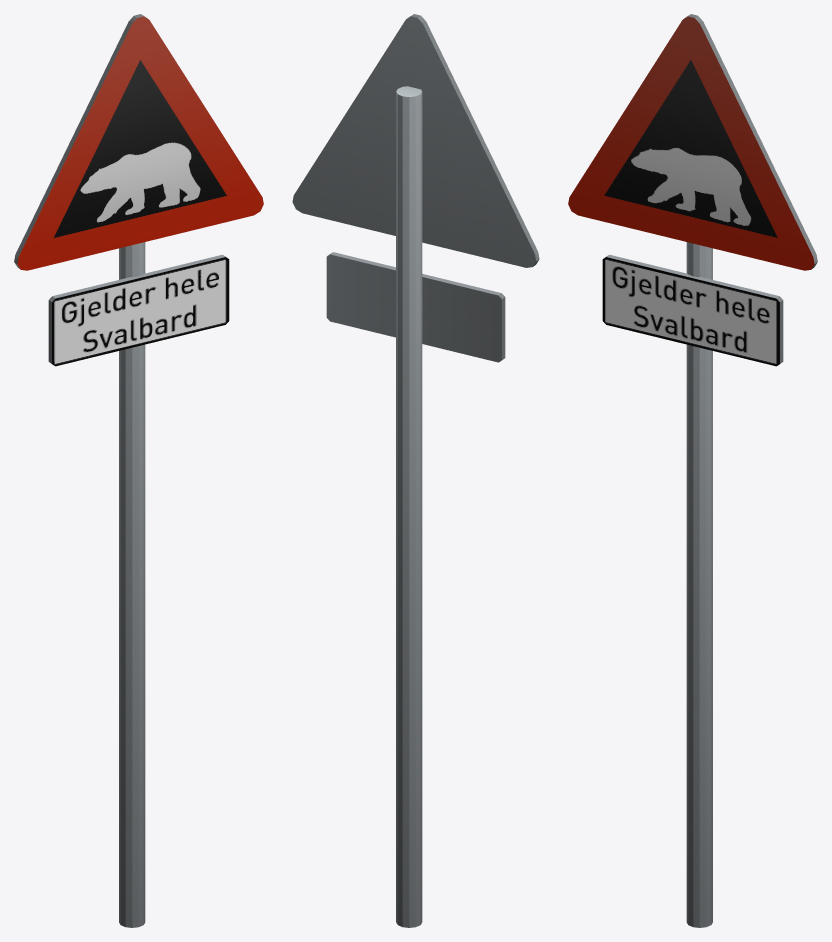
The model's file is WarningSign.fbx.
The picture shows the model from 3 angles, left to right: view 1: azimuth 30°, elevation 25°; view 2: azimuth 150°, elevation 25°; view 3: azimuth 330°, elevation 25°; orthographic projection.
Visible parts, largest first — view 1: Main, Post, Sub; view 2: Main, Post, Sub; view 3: Main, Post, Sub.
Part boxes in pixels (x1,y1,x2,y2): Main: (14, 14, 263, 270); Post: (119, 242, 145, 927); Sub: (48, 254, 229, 366); Main: (292, 14, 539, 267); Post: (396, 86, 422, 927); Sub: (326, 252, 505, 362); Main: (568, 14, 817, 270); Post: (686, 242, 712, 927); Sub: (602, 254, 783, 366).
Bounding box in the file's own units: 2.15 × 7.6 × 0.2281.
